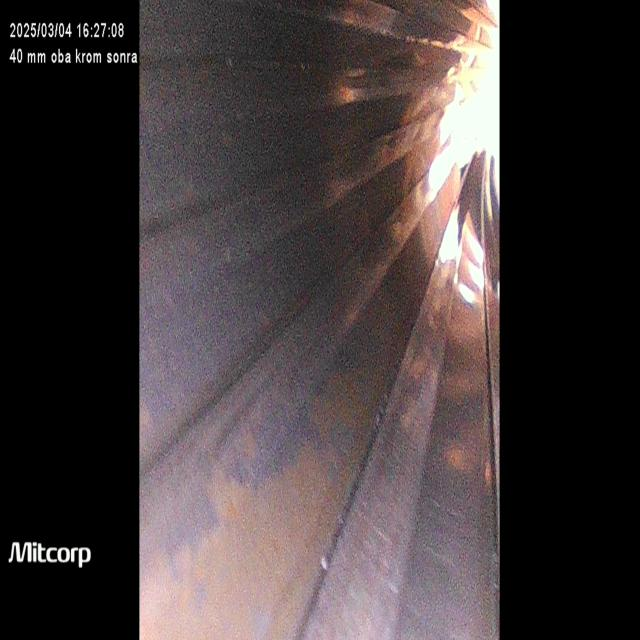hata_4.2: (136, 206, 456, 632)
